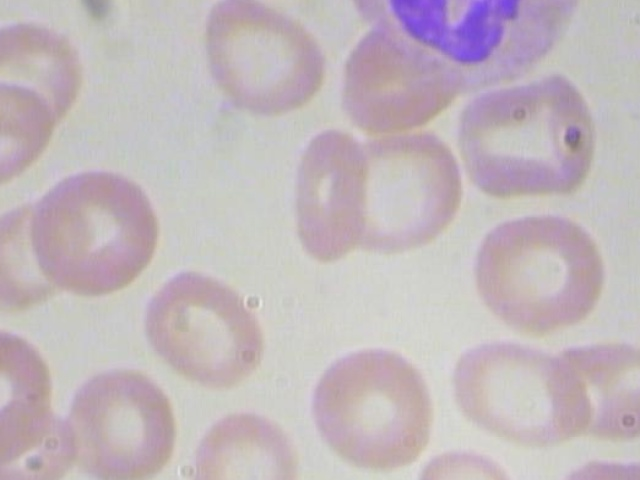RBC: (446, 67, 600, 206), (468, 205, 611, 341), (137, 253, 280, 389), (22, 162, 165, 298), (317, 125, 460, 258), (440, 332, 599, 451), (304, 345, 437, 476), (196, 0, 339, 120), (59, 360, 183, 480), (287, 123, 378, 264), (543, 327, 640, 445)
WBC: (345, 0, 614, 102)
